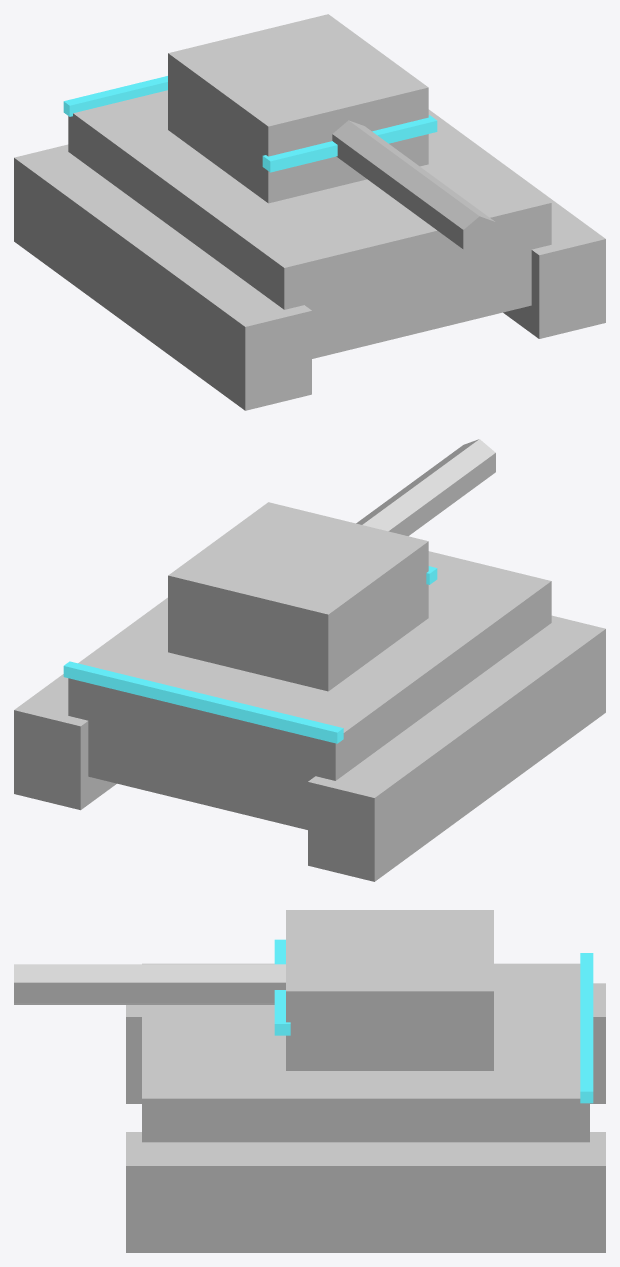
File: scout-tank.glb
3 renders of one model, top to bottom at view 1: azimuth 30°, elevation 25°; view 2: azimuth 150°, elevation 25°; view 3: azimuth 270°, elevation 25°, orthographic. The views are drawn at different scales.
Size of the model in its own units: 2.7 by 1.45 by 3.7.
